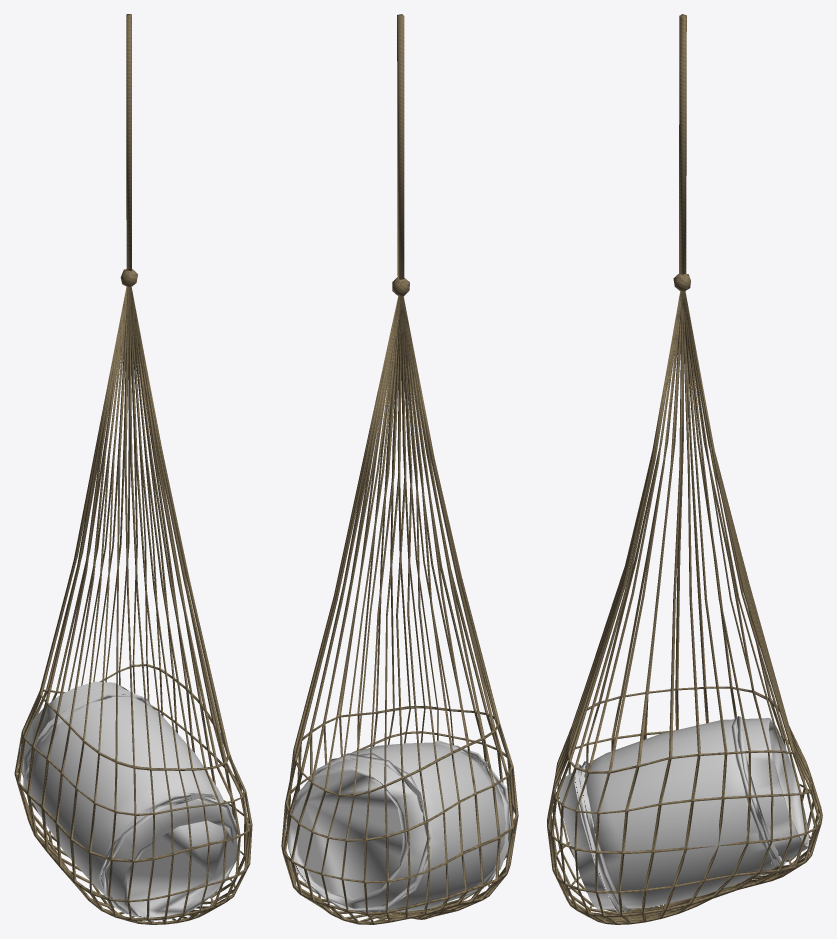
The model's file is SM_BarrelInRope1.fbx.
The picture shows the model from 3 angles, left to right: view 1: azimuth 30°, elevation 25°; view 2: azimuth 150°, elevation 25°; view 3: azimuth 270°, elevation 25°; orthographic projection. The views are drawn at different scales.
Parts seen in each view (by area): view 1: SM_BarrelInRope1_LOD0; view 2: SM_BarrelInRope1_LOD0; view 3: SM_BarrelInRope1_LOD0.
Part boxes in pixels (bbox=[...]): SM_BarrelInRope1_LOD0: bbox=[14, 14, 252, 924]; SM_BarrelInRope1_LOD0: bbox=[281, 14, 518, 924]; SM_BarrelInRope1_LOD0: bbox=[547, 14, 822, 924].
Size of the model in its own units: 84.21 by 129 by 461.
